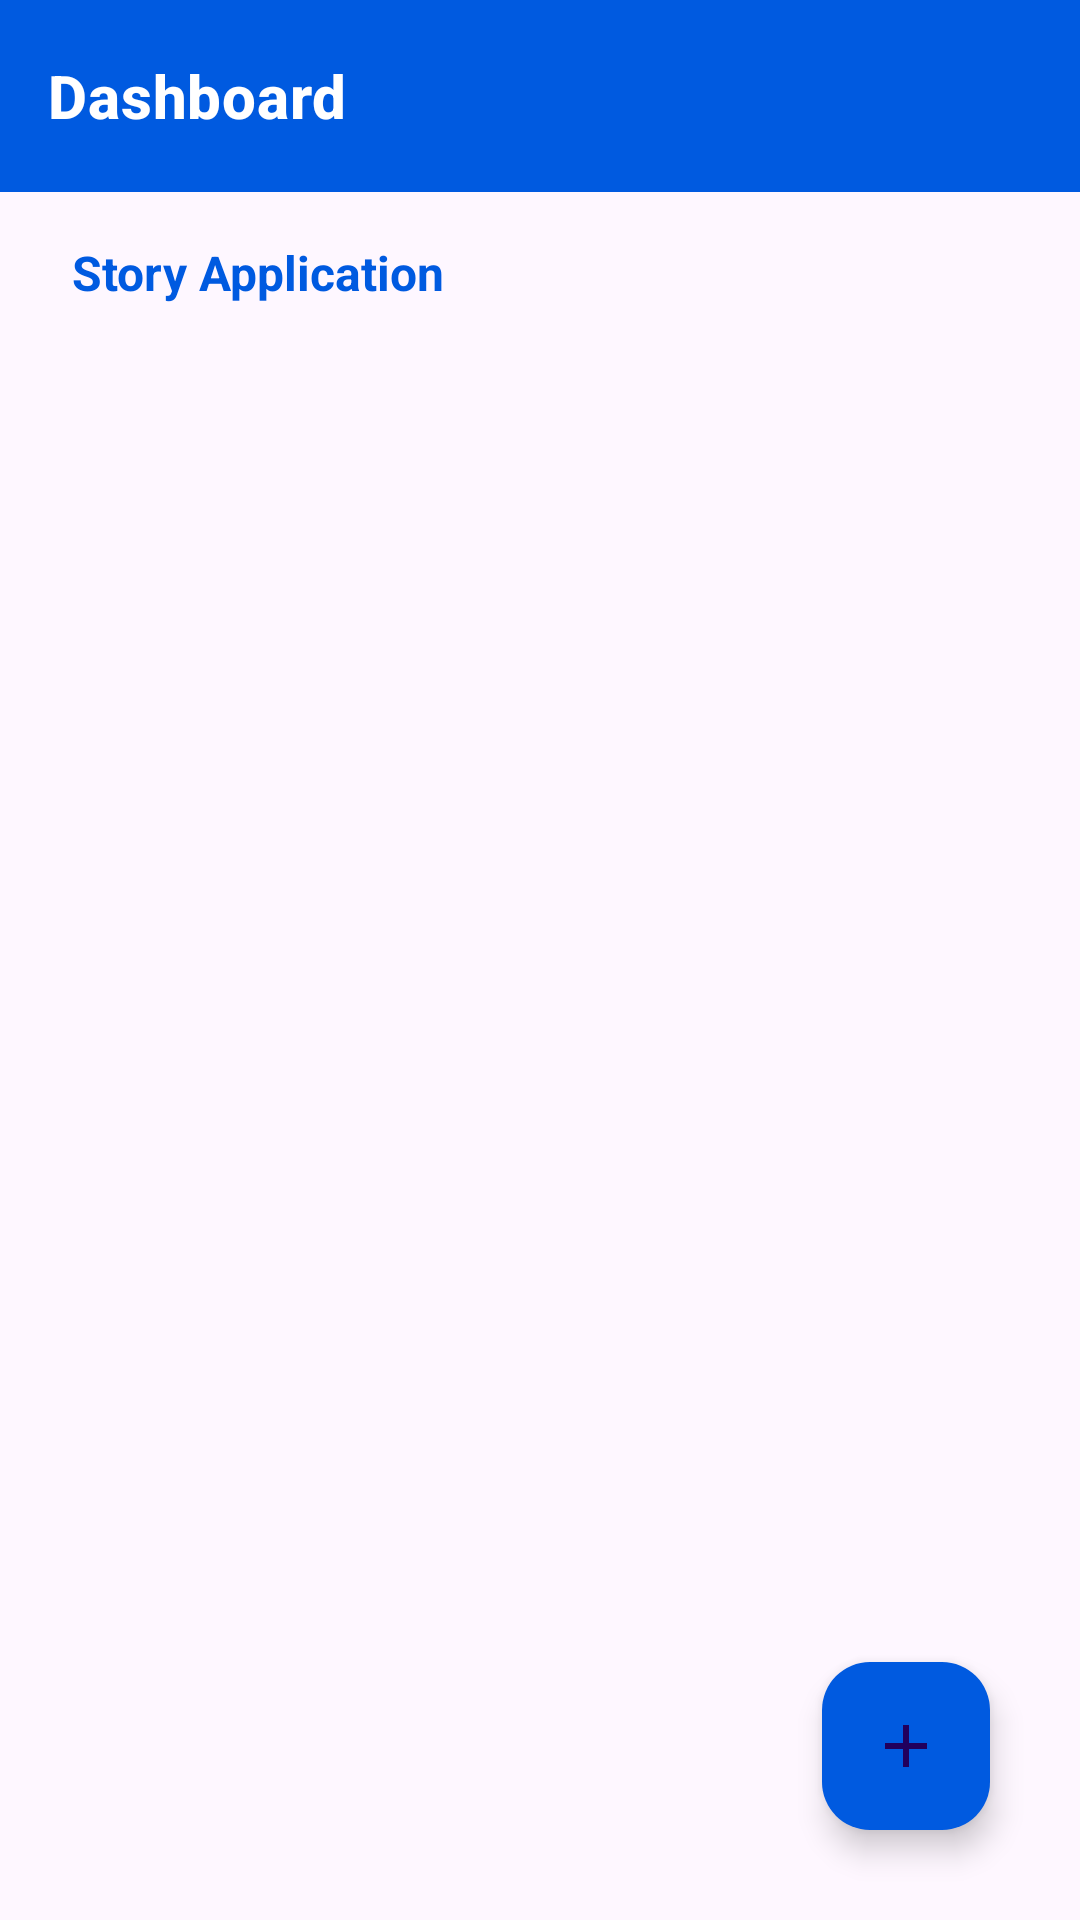

Named icons in this screenshot (1080 x 1920) and their bounding boxes, (x1, y1, x2, y2):
add: (822, 1662, 990, 1830)
